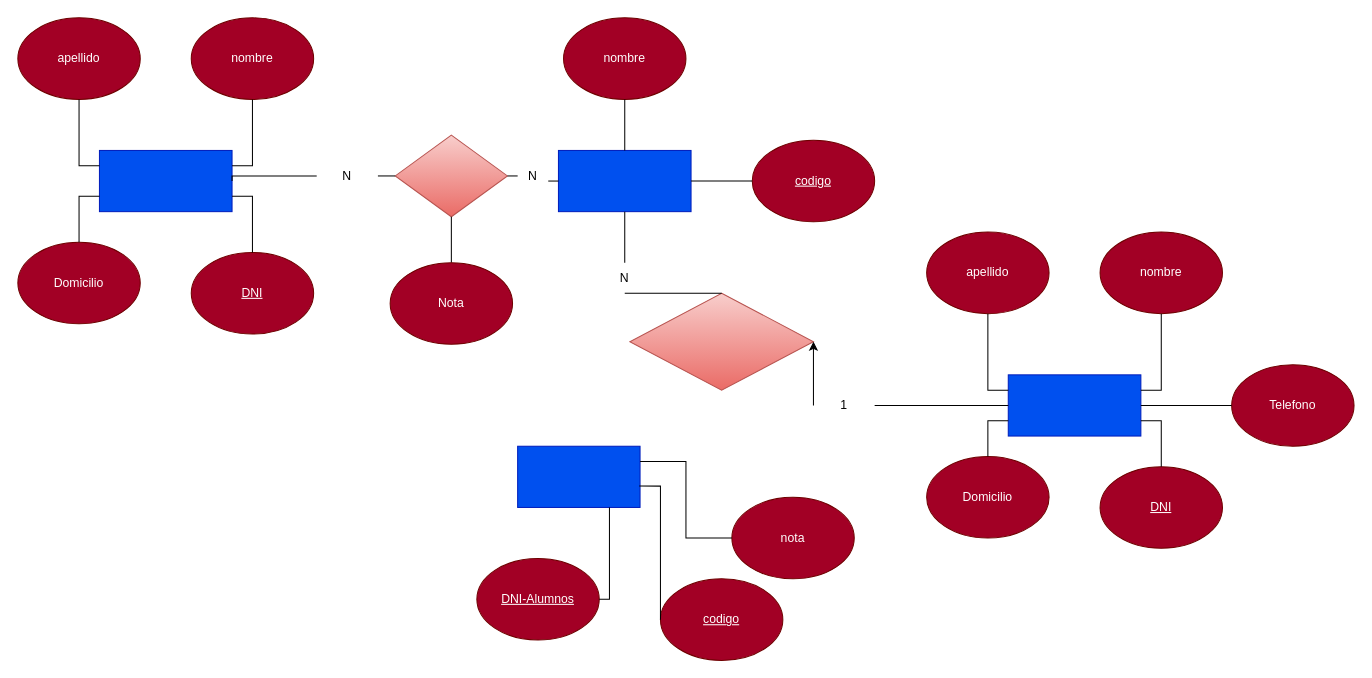
Image size: 1372x678. Some labels were removed from this diagram. Each missing label, with the box of its shape:
Alumnos: (98, 149, 232, 212)
Asignatura: (557, 149, 691, 212)
Calificacion: (517, 445, 640, 507)
Docente: (1007, 374, 1141, 436)
Imparte: (629, 292, 813, 390)
Matriculan: (394, 134, 507, 217)
